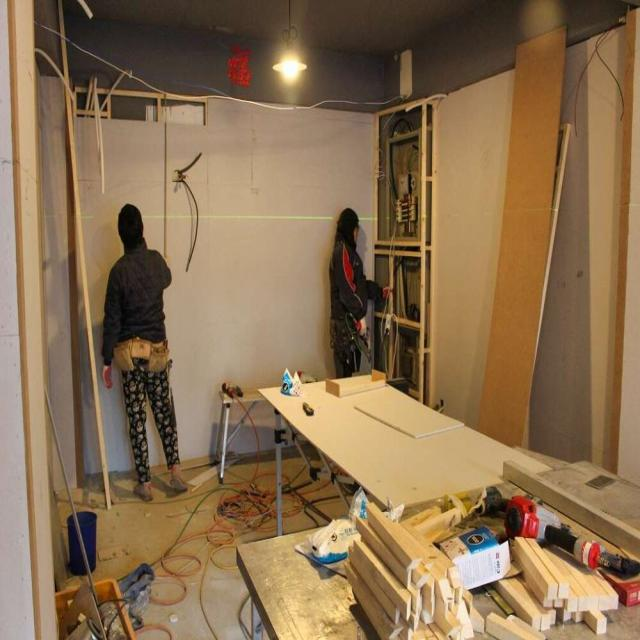board: (257, 372, 554, 511), (477, 23, 569, 449), (354, 392, 464, 439)
wood: (58, 0, 114, 511), (503, 460, 640, 561), (540, 546, 619, 613), (343, 560, 404, 640), (353, 539, 411, 621), (348, 545, 401, 624), (356, 516, 412, 589), (366, 502, 422, 570), (514, 536, 558, 600), (524, 538, 570, 599), (492, 578, 541, 630), (507, 577, 551, 631), (486, 612, 543, 640)
